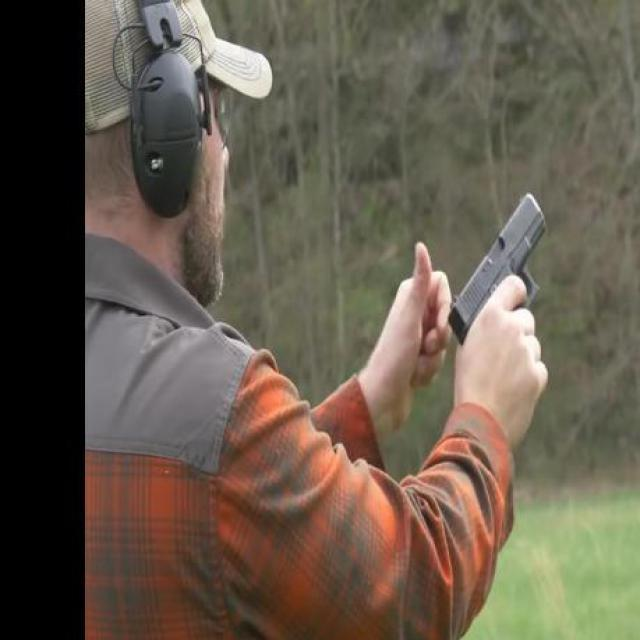weapon: (440, 189, 550, 349)
